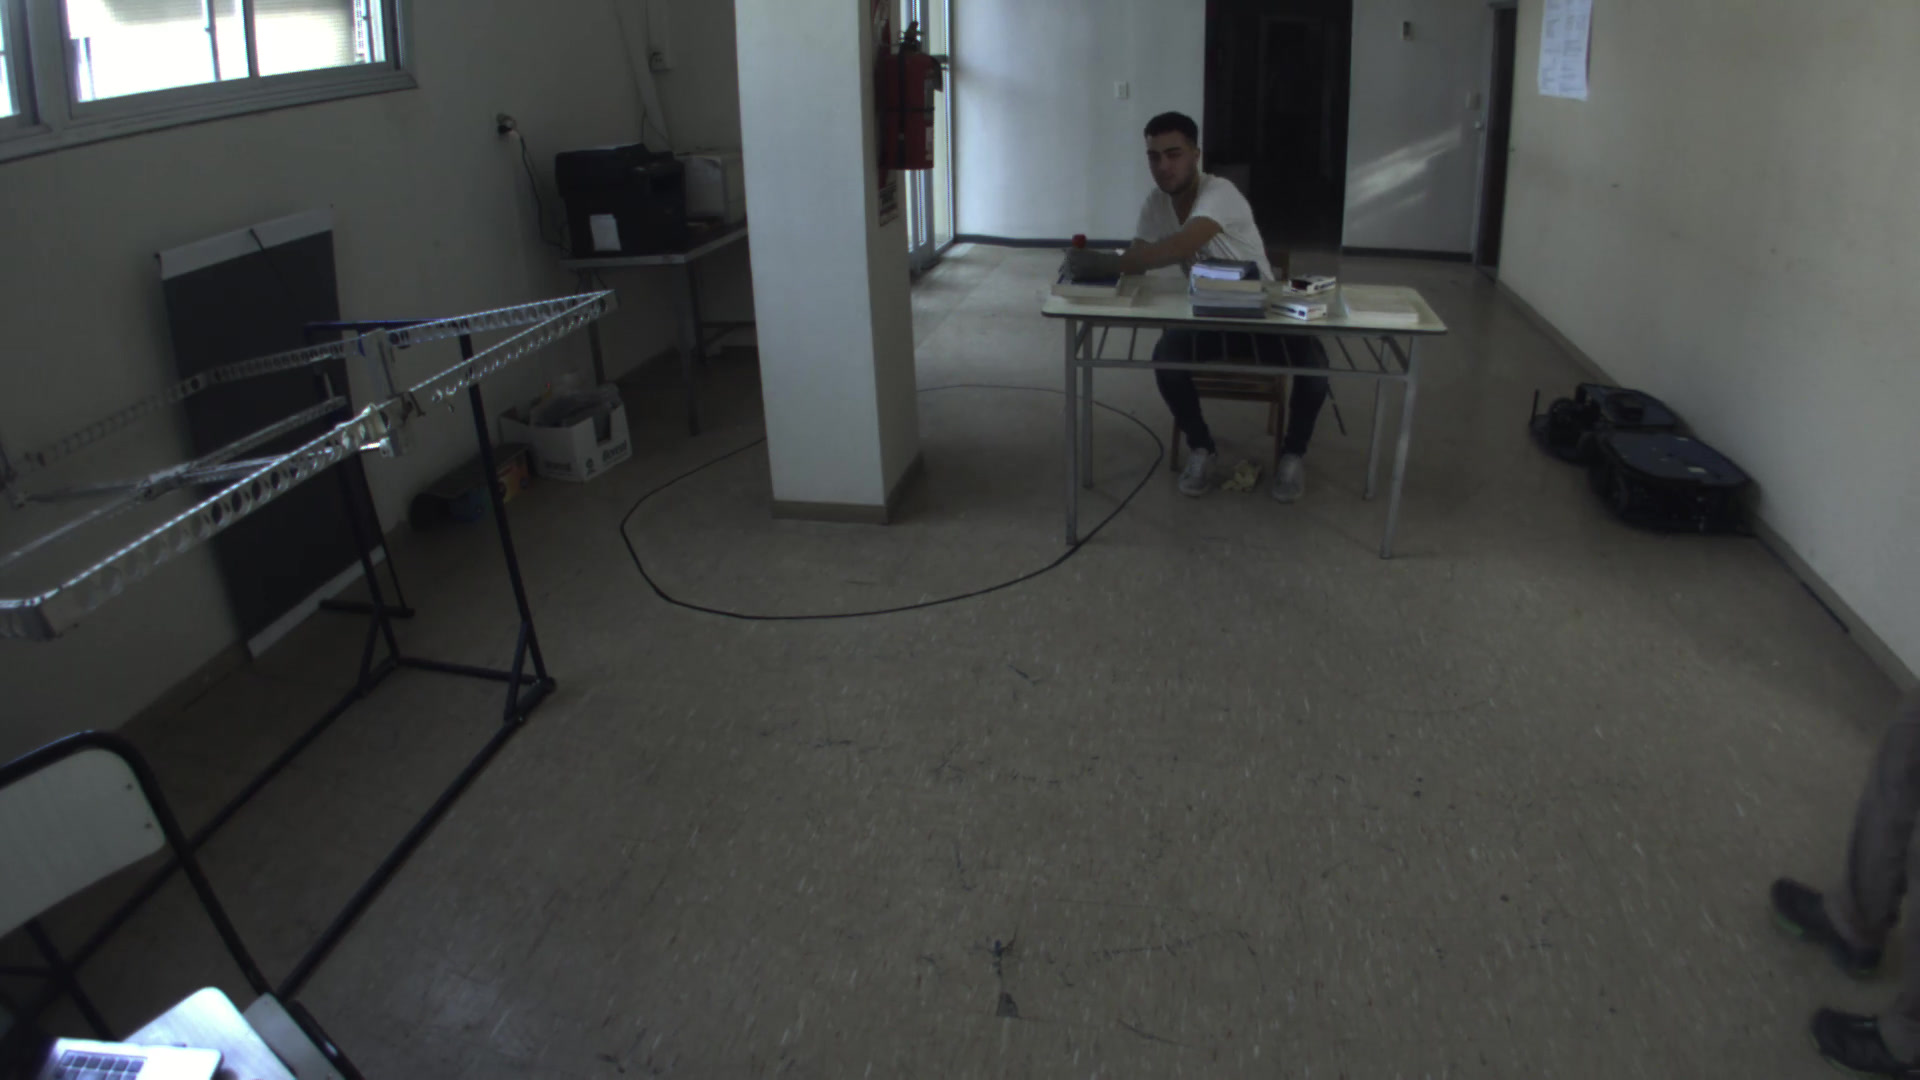hand: (1060, 243, 1127, 285)
